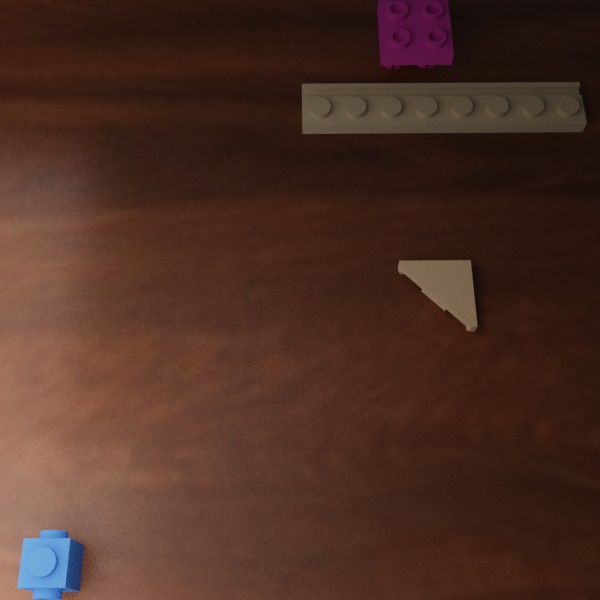lego: (301, 82, 586, 133), (397, 260, 477, 331), (377, 0, 453, 68), (17, 530, 84, 599)
